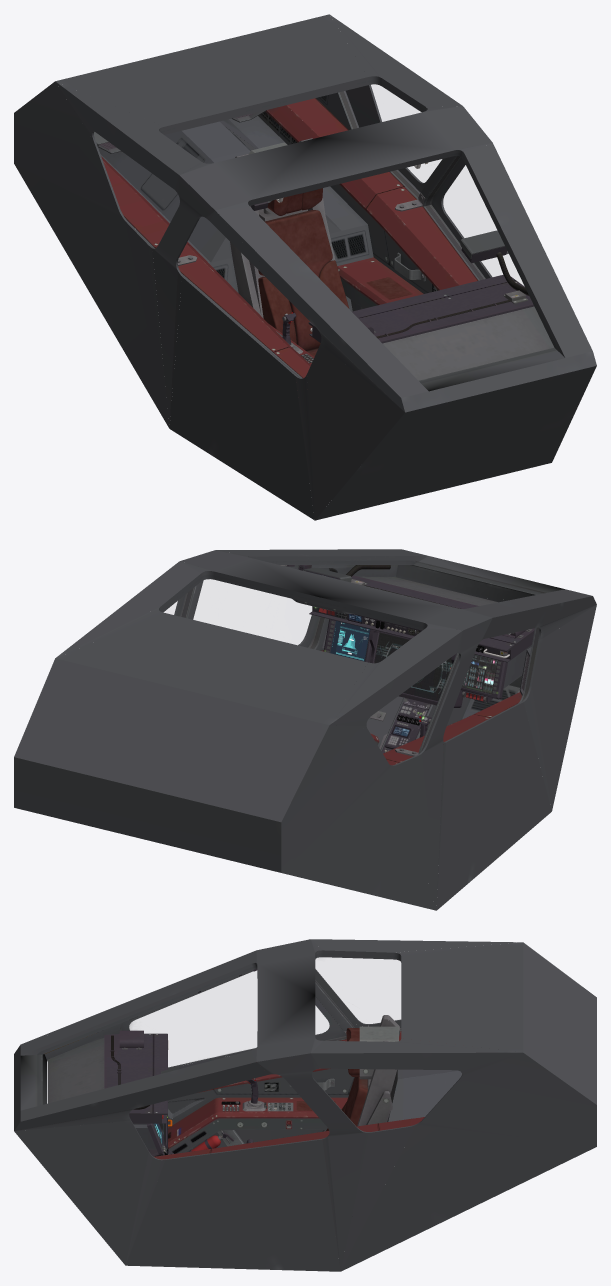
File: cockpit_scifi.glb
The picture shows the model from 3 angles, top to bottom: view 1: azimuth 30°, elevation 25°; view 2: azimuth 150°, elevation 25°; view 3: azimuth 270°, elevation 25°; orthographic projection. The views are drawn at different scales.
Parts seen in each view (by area): view 1: VA_Cockpit5_Body, VA_Cockpit5_Seat; view 2: VA_Cockpit5_Body, VA_Cockpit5_ScreenMid_Cockpit5_ScreenMid_0, VA_Cockpit5_ScreenLeft_Cockpit5_ScreenLeft_0, VA_Cockpit5_ScreenRight_Cockpit5_ScreenRight_0; view 3: VA_Cockpit5_Body, VA_Cockpit5_Seat.
Boxes of the visible parts, <box> form: VA_Cockpit5_Body: <box>14,14,596,520</box>; VA_Cockpit5_Seat: <box>230,138,349,356</box>; VA_Cockpit5_Body: <box>14,549,596,910</box>; VA_Cockpit5_ScreenMid_Cockpit5_ScreenMid_0: <box>374,632,452,701</box>; VA_Cockpit5_ScreenLeft_Cockpit5_ScreenLeft_0: <box>330,620,370,661</box>; VA_Cockpit5_ScreenRight_Cockpit5_ScreenRight_0: <box>462,654,497,694</box>; VA_Cockpit5_Body: <box>14,939,596,1271</box>; VA_Cockpit5_Seat: <box>326,1015,400,1130</box>.
Bounding box in the file's own units: 164 × 149 × 353.
5 materials, 5 textured.
